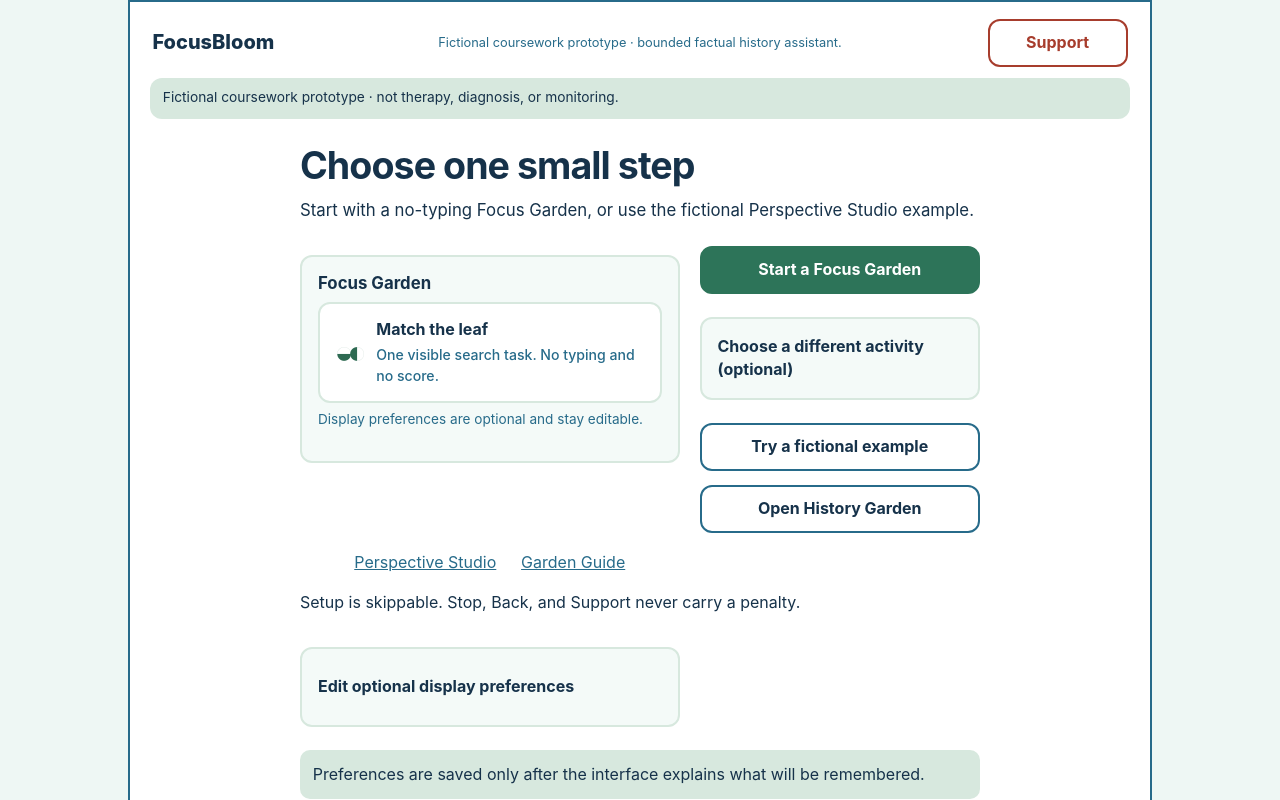
Test: FocusBloom Vue experience › renders no-motion with identical controls and interrupts before opening Support
Click the button "Start a Focus Garden".
click(840, 270)  # box [700, 246, 980, 294]
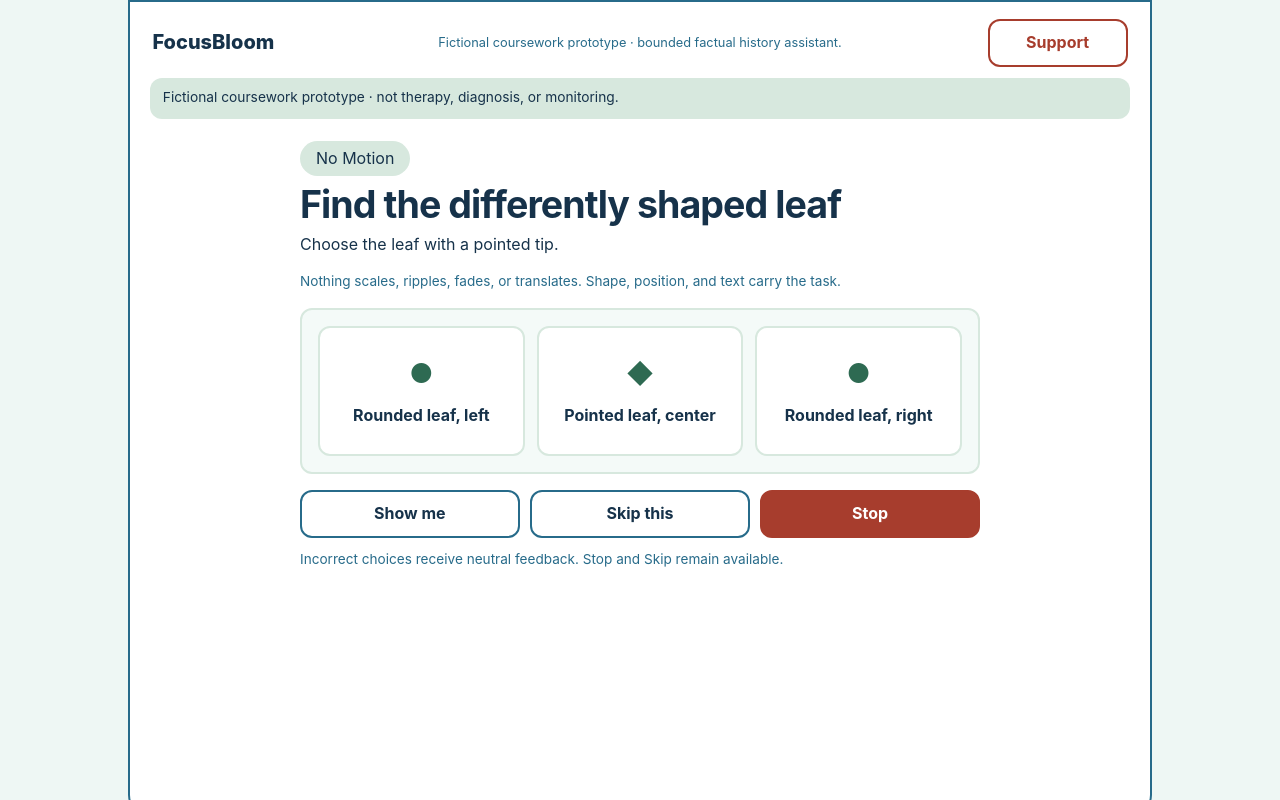
Expected: the text "Nothing scales, ripples, fades, or translates" is shown, [300, 273, 841, 289]
Click the button with class "support-button".
click(1058, 43)  # box [988, 19, 1128, 67]
(page scrolled)
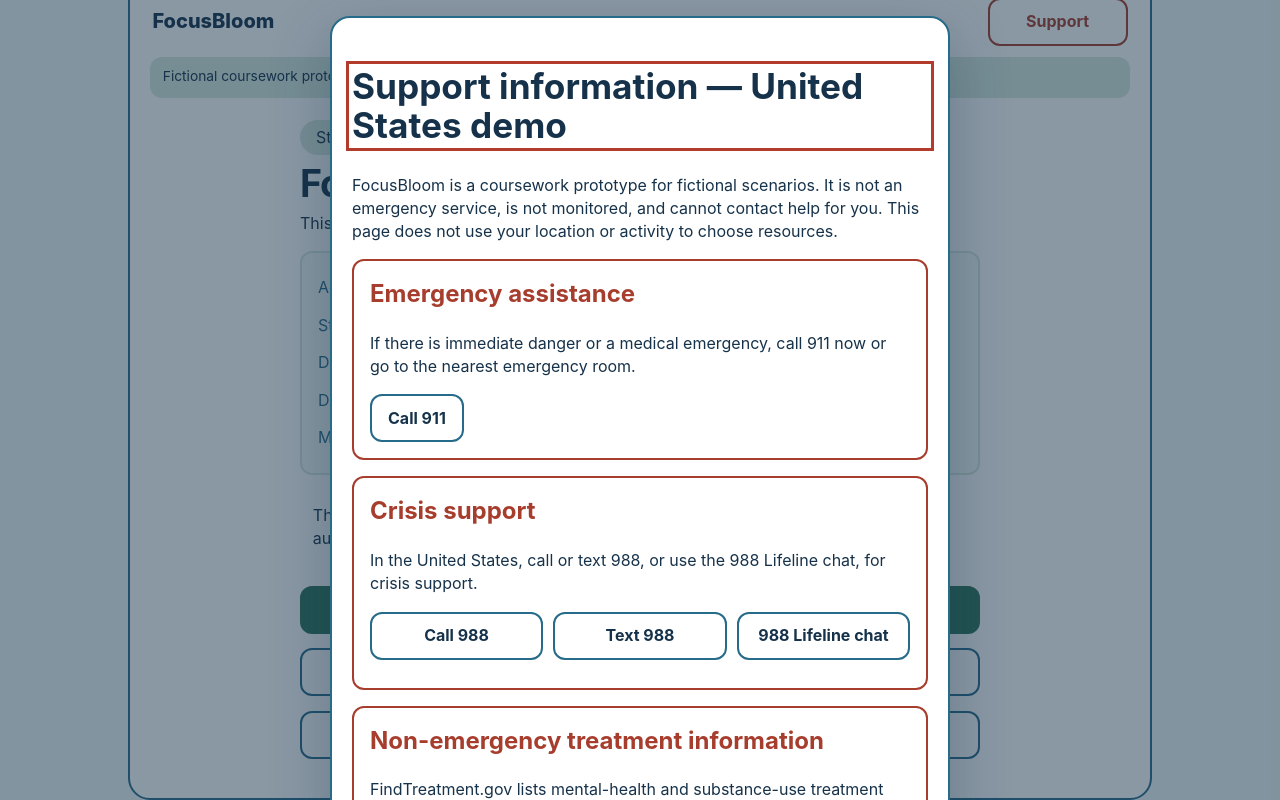
Expected: the dialog is shown, [330, 16, 950, 799]
